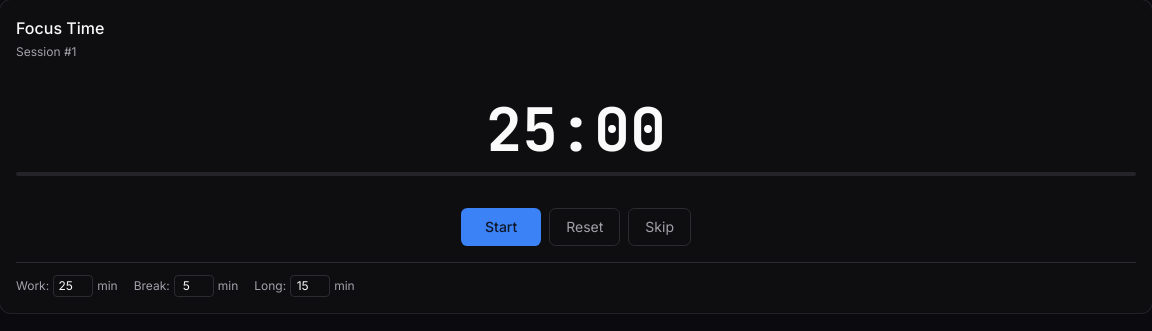
Test: PomodoroTimer › shows Pause button when running
The image size is (1152, 331).
Click the button "Start" at (501, 227), box [461,208,541,246]
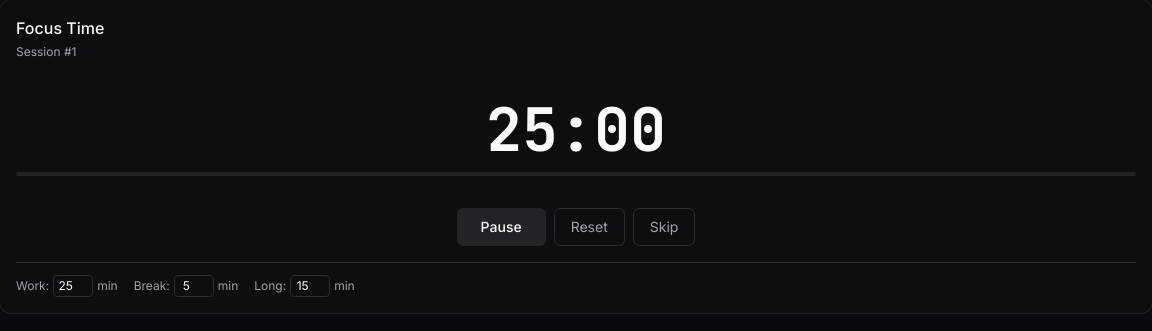
Result: the button "Pause" is shown at [457,208,546,246]
